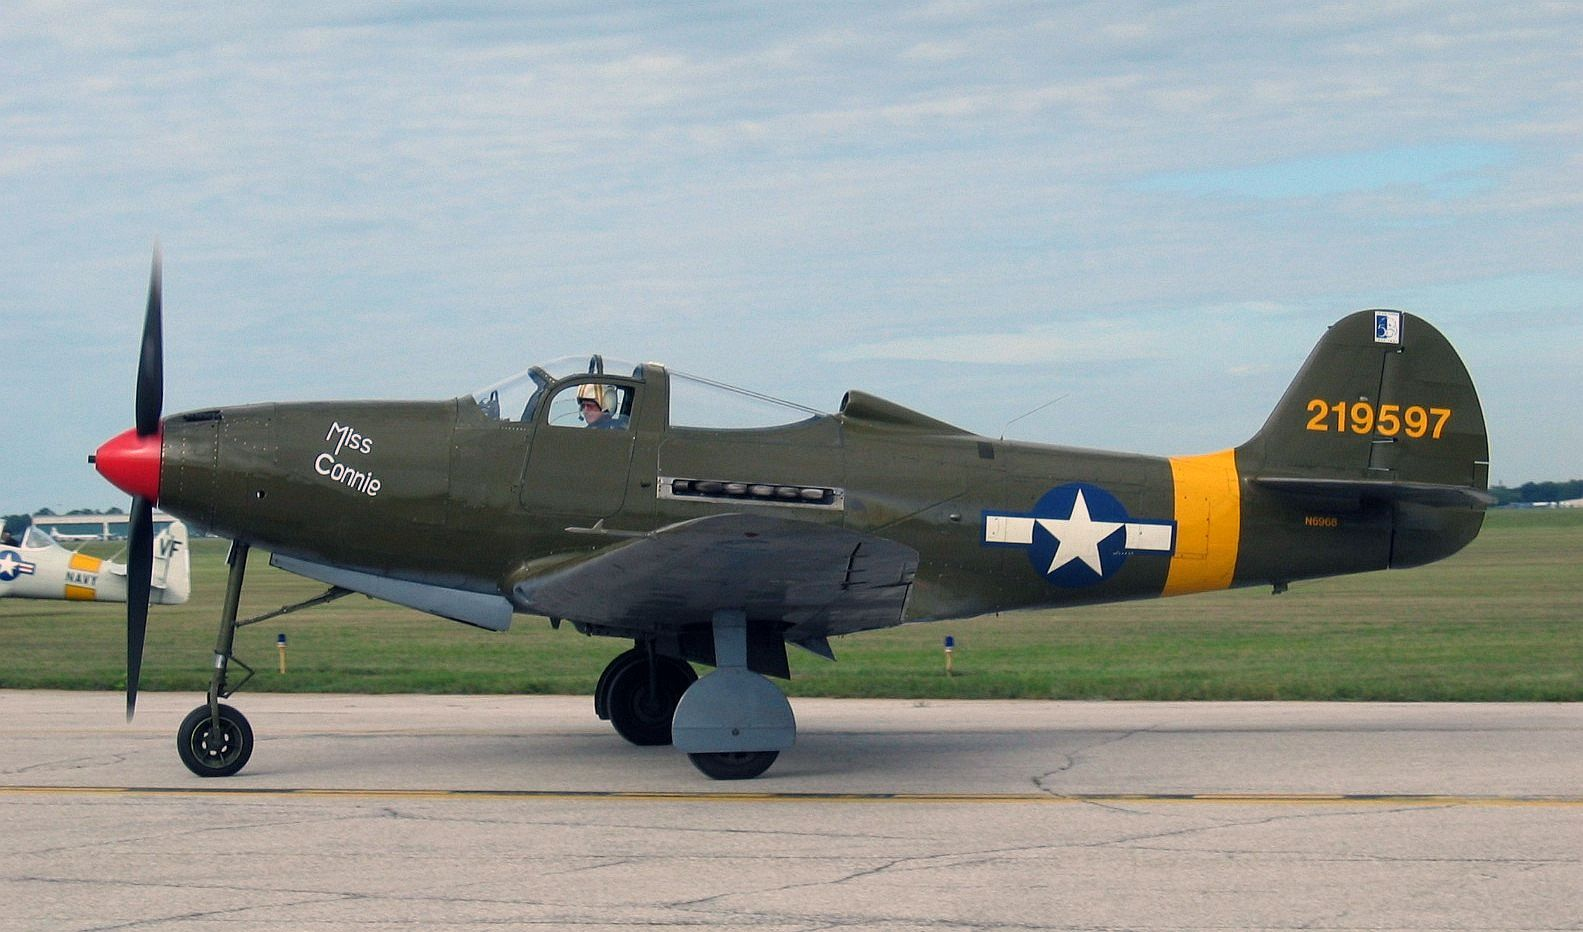Aeronef_militaire: (88, 229, 1528, 790)
